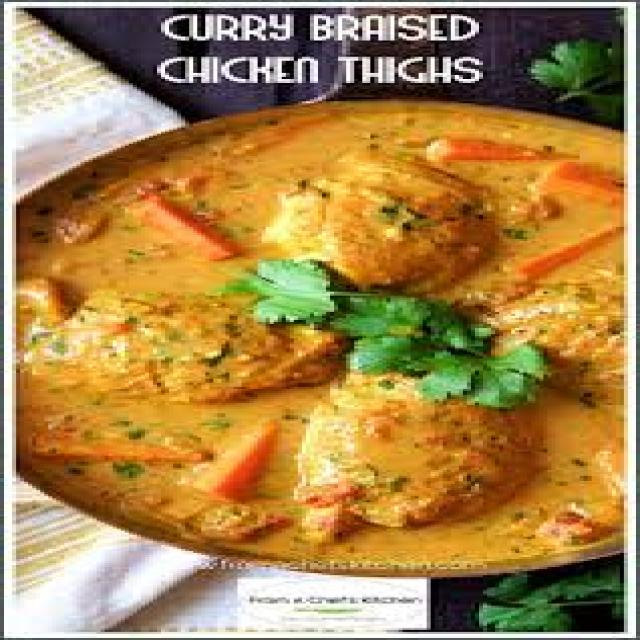Chicken Curry: (28, 128, 640, 553)
